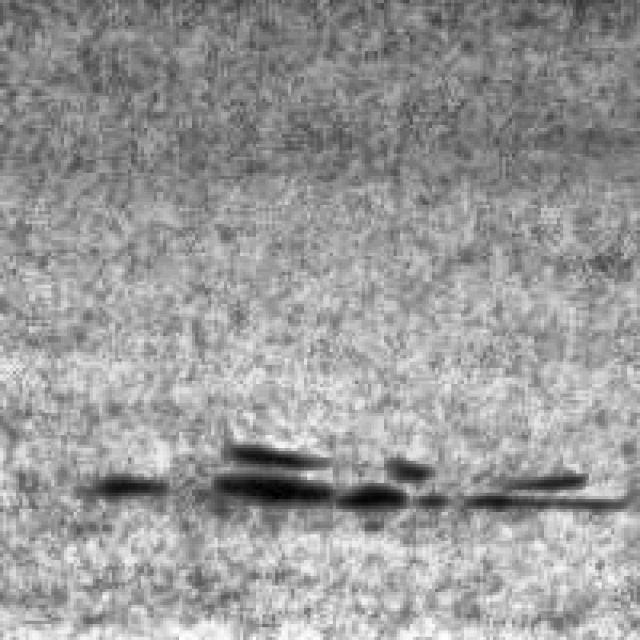Patches: (204, 419, 630, 522), (70, 454, 164, 509)
